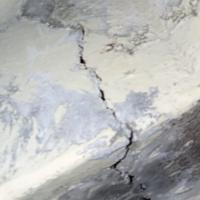crack: (53, 22, 164, 189)
